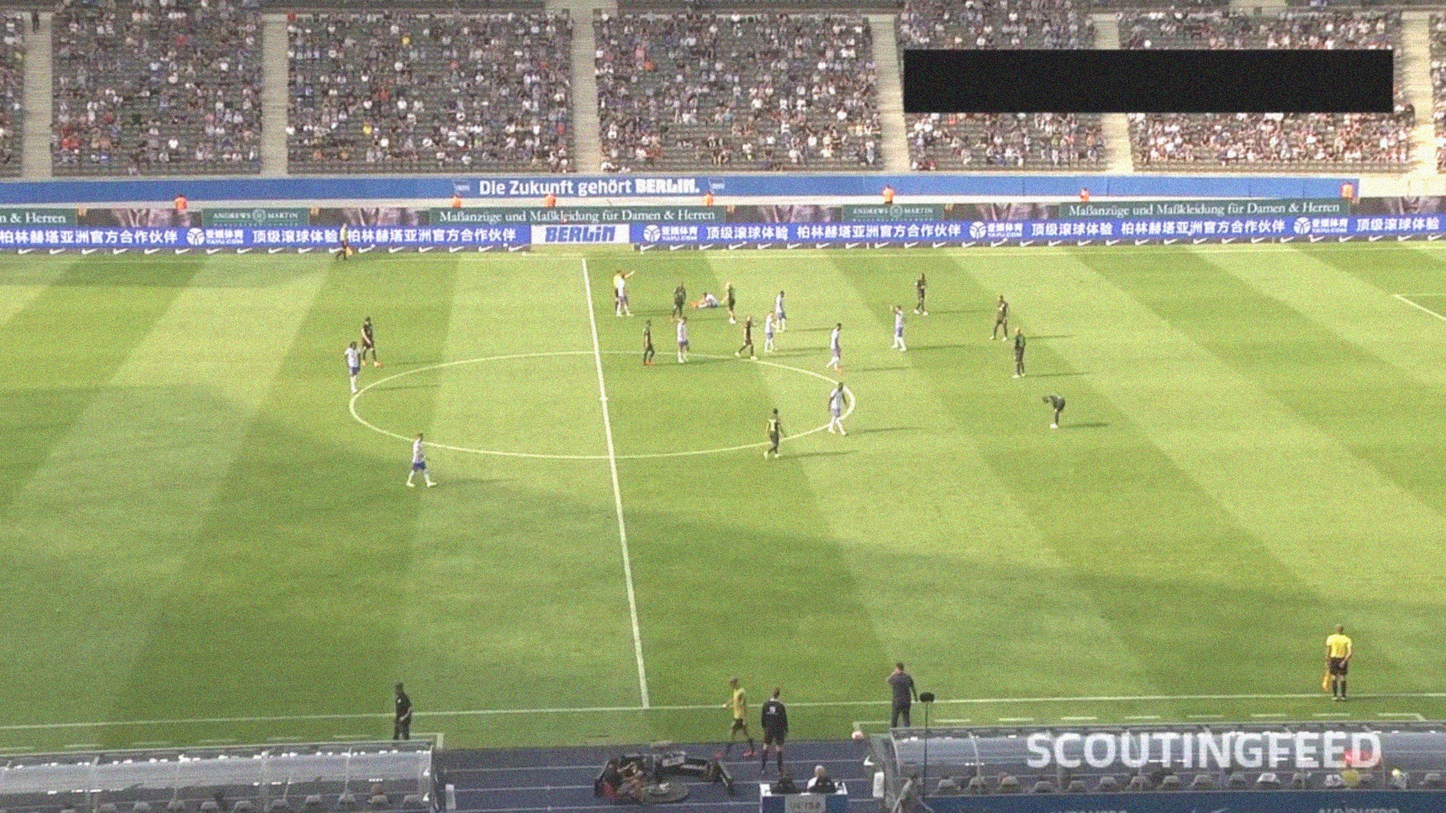player: (405, 432, 437, 488), (762, 406, 788, 464), (826, 379, 848, 438), (359, 315, 382, 370), (340, 340, 362, 396), (737, 312, 760, 365), (1008, 325, 1029, 381), (825, 322, 845, 376), (673, 317, 695, 366), (1041, 392, 1067, 432), (989, 293, 1009, 345), (639, 320, 658, 370), (889, 303, 908, 352), (762, 309, 780, 355), (913, 271, 930, 317), (688, 291, 720, 314), (670, 279, 686, 324), (616, 274, 633, 316), (723, 282, 737, 325), (774, 290, 787, 336)
referee: (1318, 622, 1359, 703), (611, 267, 635, 312), (336, 223, 352, 262)
